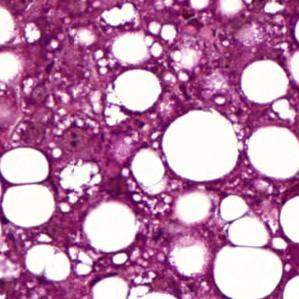steatosis: (159, 106, 243, 183), (83, 198, 138, 254), (1, 184, 56, 227), (0, 149, 51, 185)
